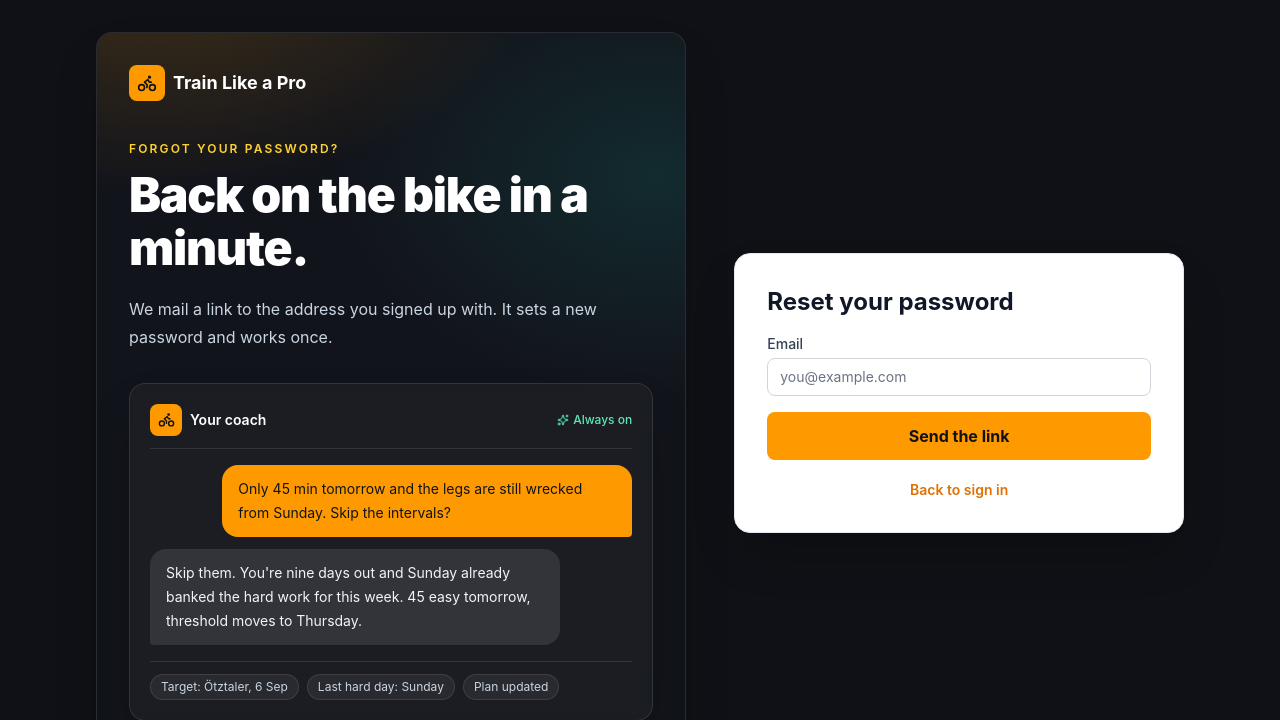
ForgotPasswordPage › asks for the link and says what happens next, the same for any address
Type "rider@example.com" into the field labelled "Email" at (959, 377), box 767,358 -> 1151,396
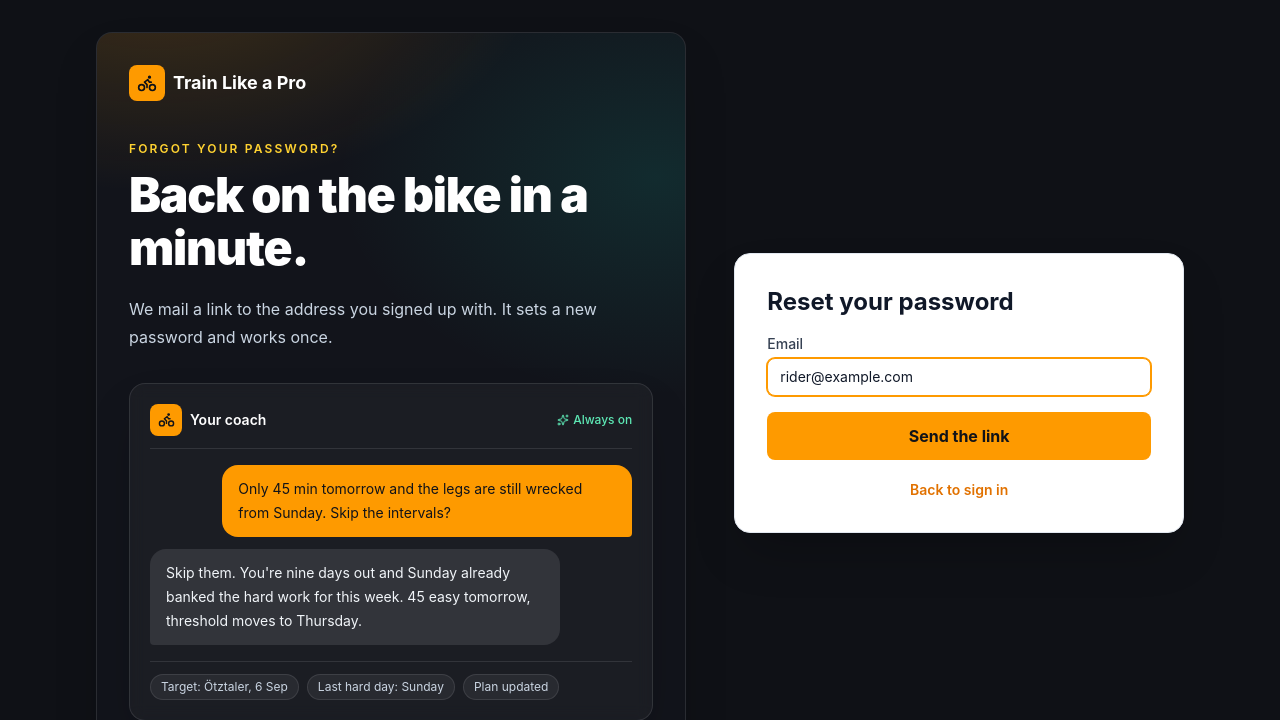
Click the button "Send the link" at (959, 436), box 767,412 -> 1151,460
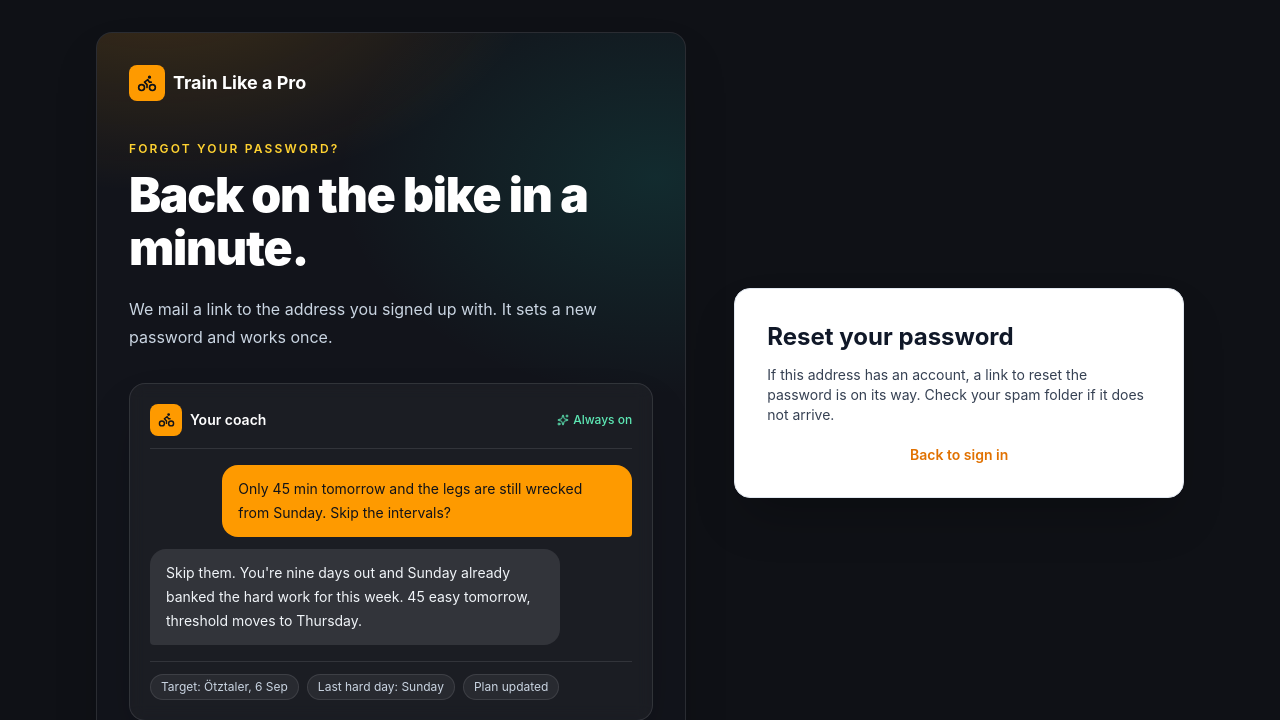
Expected: the message shows "If this address has an account", 767,366 -> 1087,403
